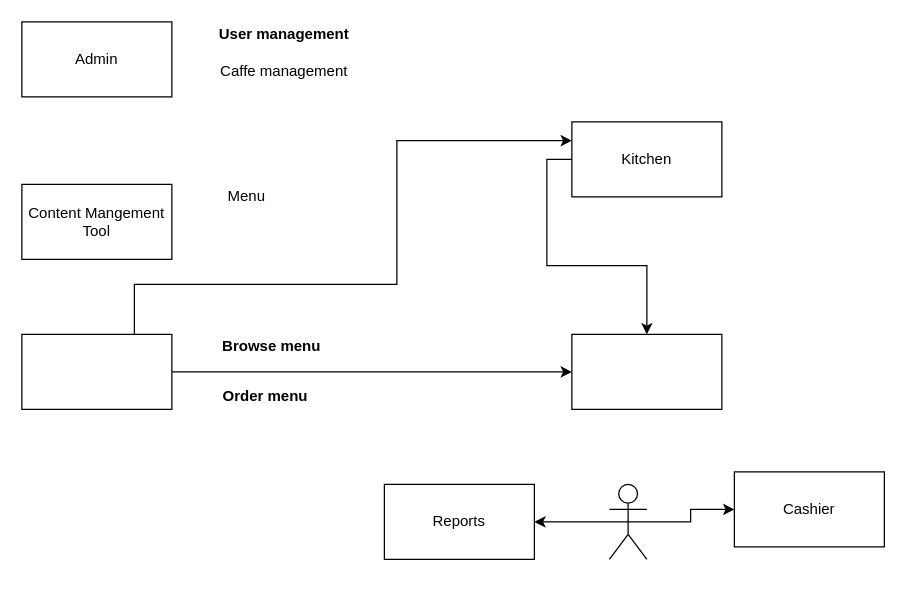
This 906x608 diagram has some shape labels left out. Each missing label, with the box of its shape:
Actor: (608, 483, 647, 559)
Caffe: (21, 333, 172, 409)
Waiter Tool: (571, 333, 722, 409)
